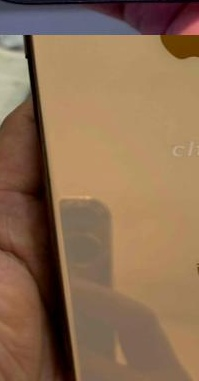scratch: (4, 0, 199, 8)
